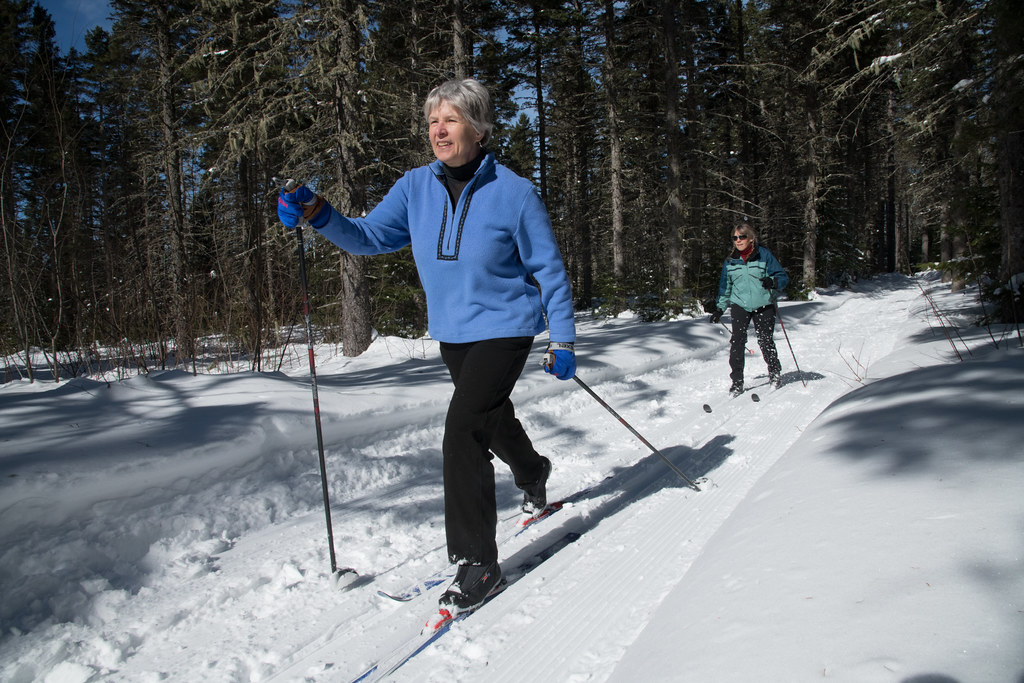skier: (273, 77, 704, 683), (696, 221, 814, 415)
